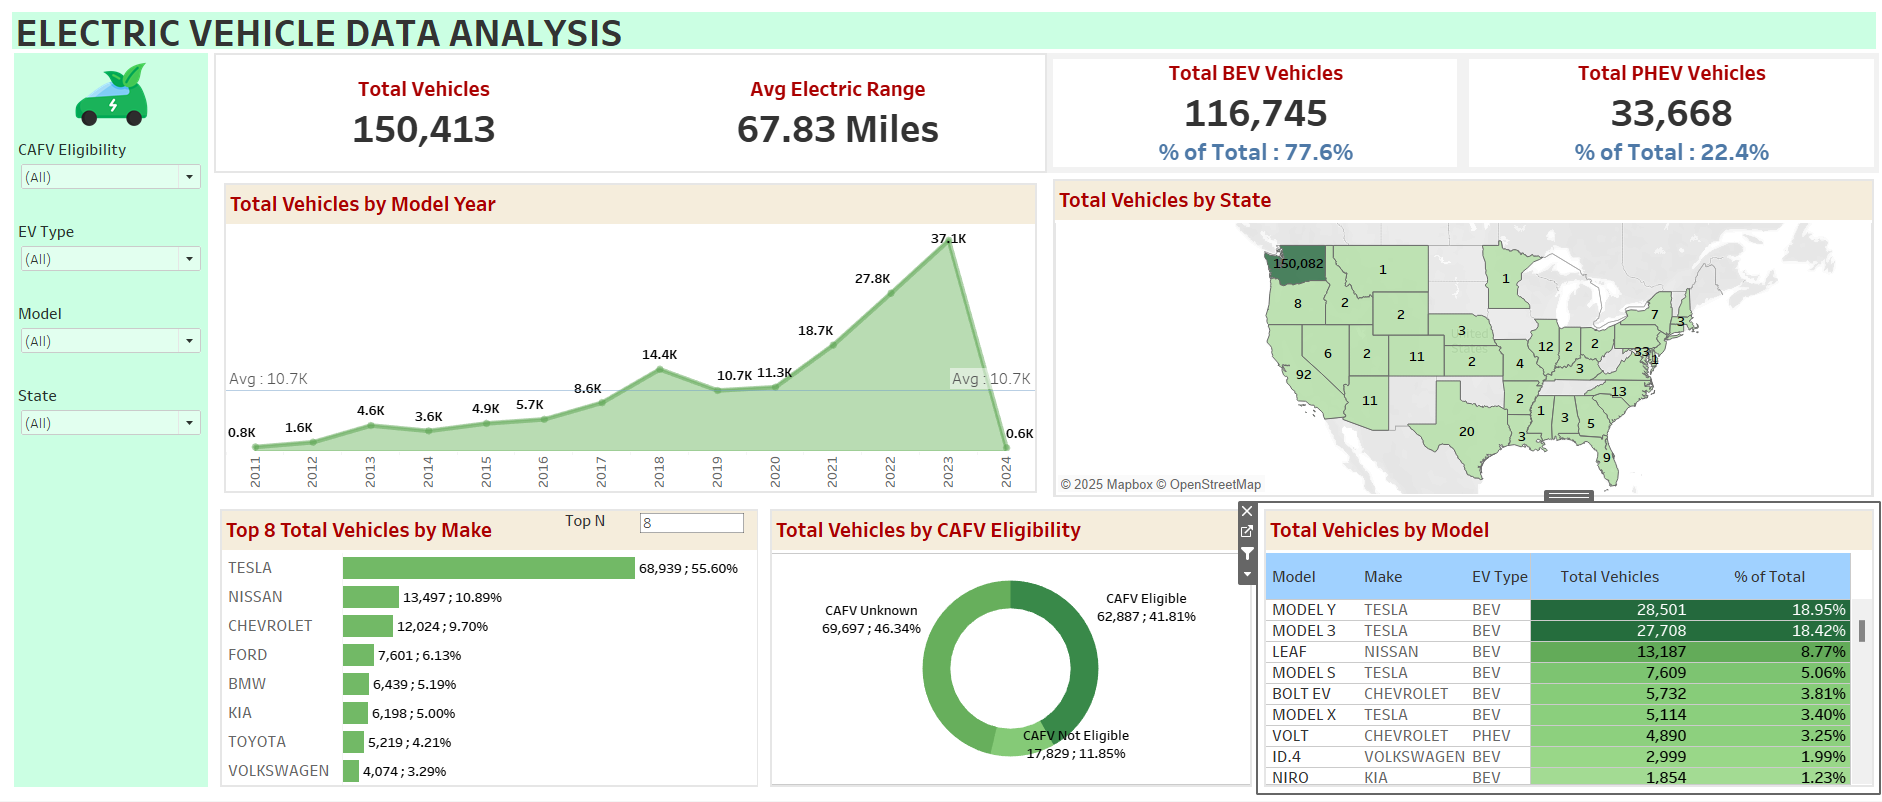

The dashboard page shown, as its layout file describes it:
{"tool":"tableau","page":{"name":"Dashboard 1","canvas":[1000,1000],"units":"permille","ordinal":0},"visuals":[{"type":"title","box":[4.2,10,991.5,56.5]},{"type":"image","param":"Image/electric-car.png","box":[7.4,66.2,102.8,102.4]},{"type":"worksheet","title":"Total BEV Vehicles","mark":"Automatic","box":[554.4,66.5,220.7,149.5]},{"type":"worksheet","title":"Total PHEV Vehicles","mark":"Automatic","box":[775.1,66.5,220.7,149.5]},{"type":"worksheet","title":"Total Vehicles","mark":"Automatic","box":[114.2,69,219.6,144.5]},{"type":"worksheet","title":"Avg Electric Range","mark":"Automatic","box":[333.7,69,219.6,144.5]},{"type":"filter","title":"Total Vehicles by Model Year","param":"[federated.13va4cz12i539t18icpin0sscrwy].[none:Clean Alternative Fuel Vehicle (C","box":[7.4,168.5,102.8,102.4]},{"type":"worksheet","title":"Total Vehicles by State","mark":"Multipolygon","box":[554.4,216,441.4,412]},{"type":"worksheet","title":"Total Vehicles by Model Year","mark":"Area","rows":["Calculation_815714503230365696","Calculation_815714503230365696"],"cols":["Model Year"],"box":[116.3,223.5,434.9,397]},{"type":"filter","title":"Total Vehicles by Model Year","param":"[federated.13va4cz12i539t18icpin0sscrwy].[none:Electric Vehicle Type:nk]","box":[7.4,270.9,102.8,102.4]},{"type":"filter","title":"Total Vehicles by Model Year","param":"[federated.13va4cz12i539t18icpin0sscrwy].[none:Model:nk]","box":[7.4,373.3,102.8,102.4]},{"type":"filter","title":"Total Vehicles by Model Year","param":"[federated.13va4cz12i539t18icpin0sscrwy].[none:State:nk]","box":[7.4,475.7,102.8,102.4]},{"type":"blank","box":[7.4,578,102.8,101.1]},{"type":"worksheet","title":"Top 10 Total Vehicles by Make","mark":"Automatic","rows":["Make"],"cols":["Calculation_815714503230365696"],"box":[113.1,628,291.7,362]},{"type":"worksheet","title":"Total Vehicles by CAFV Eligibility","mark":"Pie","rows":["Calculation_815714503247015943","Calculation_815714503247015943"],"box":[404.8,628,261.6,362]},{"type":"worksheet","title":"Total Vehicles by Model","mark":"Square","rows":["Model","Make","Electric Vehicle Type"],"box":[666.4,628,329.3,362]},{"type":"parameter","param":"[Parameters].[Parameter 1]","box":[299.3,636.7,96.6,44.9]},{"type":"blank","box":[7.4,679.1,102.8,101.1]},{"type":"blank","box":[7.4,780.3,102.8,101.1]},{"type":"blank","box":[7.4,881.4,102.8,101.1]}]}

Visuals, with their boxes on the dashboard's canvas, which has no fixed pixel size, in thousandths of its width and height (x1, y1, x2, y2). These are canvas units, not pixel positions in the 1882x802 screenshot, which may show the page scaled, cropped or inside an application window:
title: (x1=4, y1=10, x2=996, y2=66)
image: (x1=7, y1=66, x2=110, y2=169)
"Total BEV Vehicles" worksheet: (x1=554, y1=66, x2=775, y2=216)
"Total PHEV Vehicles" worksheet: (x1=775, y1=66, x2=996, y2=216)
"Total Vehicles" worksheet: (x1=114, y1=69, x2=334, y2=214)
"Avg Electric Range" worksheet: (x1=334, y1=69, x2=553, y2=214)
"Total Vehicles by Model Year" filter: (x1=7, y1=168, x2=110, y2=271)
"Total Vehicles by State" worksheet (Multipolygon marks): (x1=554, y1=216, x2=996, y2=628)
"Total Vehicles by Model Year" worksheet (Area marks): (x1=116, y1=224, x2=551, y2=620)
"Total Vehicles by Model Year" filter: (x1=7, y1=271, x2=110, y2=373)
"Total Vehicles by Model Year" filter: (x1=7, y1=373, x2=110, y2=476)
"Total Vehicles by Model Year" filter: (x1=7, y1=476, x2=110, y2=578)
blank: (x1=7, y1=578, x2=110, y2=679)
"Top 10 Total Vehicles by Make" worksheet: (x1=113, y1=628, x2=405, y2=990)
"Total Vehicles by CAFV Eligibility" worksheet (Pie marks): (x1=405, y1=628, x2=666, y2=990)
"Total Vehicles by Model" worksheet (Square marks): (x1=666, y1=628, x2=996, y2=990)
parameter: (x1=299, y1=637, x2=396, y2=682)
blank: (x1=7, y1=679, x2=110, y2=780)
blank: (x1=7, y1=780, x2=110, y2=881)
blank: (x1=7, y1=881, x2=110, y2=982)
